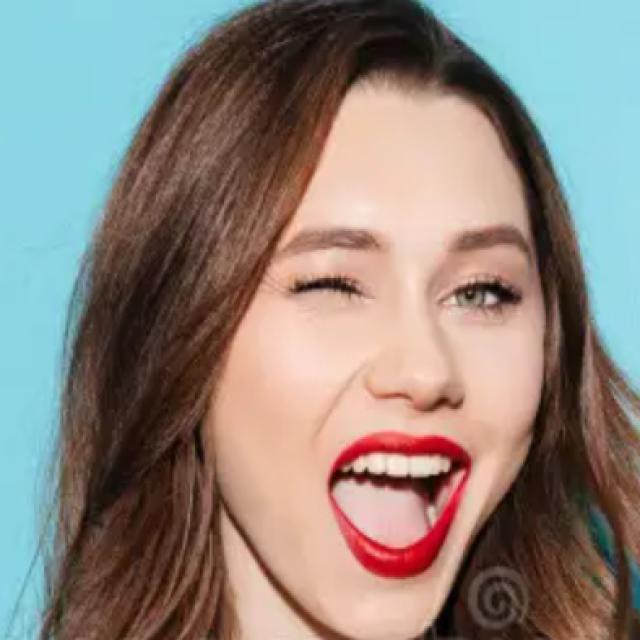close: (241, 209, 375, 314)
